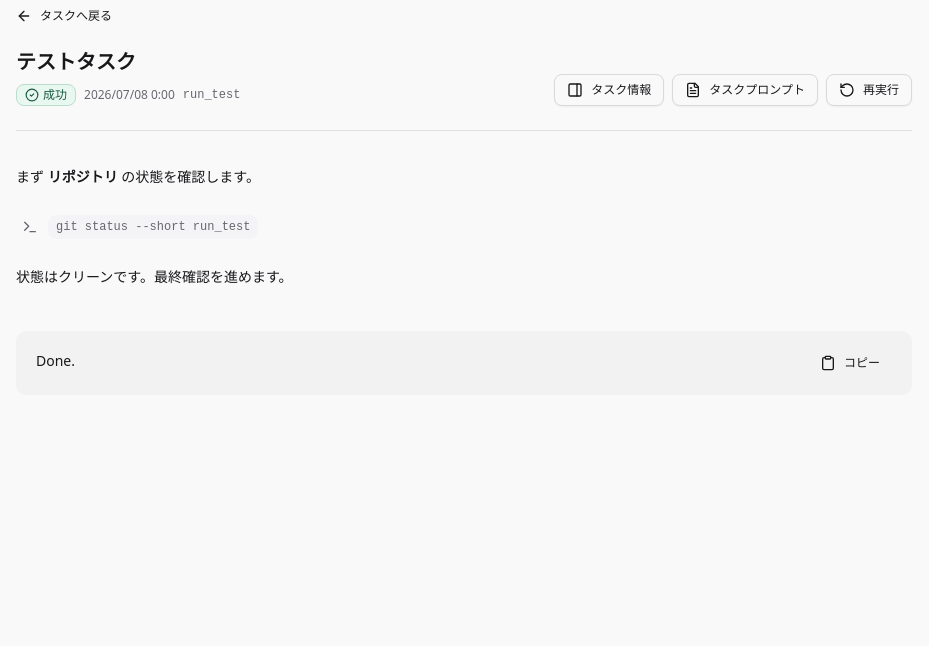
Test case: RunDetail › renders task context actions and a chat-only transcript with collapsed tool details
Expected: the buttons read "タスク情報", "タスクプロンプト", "再実行", in this order, [554,74,664,106]; [672,74,818,106]; [826,74,912,106]
Expected: the text "コマンド" is not shown
Click the heading "git status --short run_test": {"x": 151, "y": 227} [16,209,286,245]
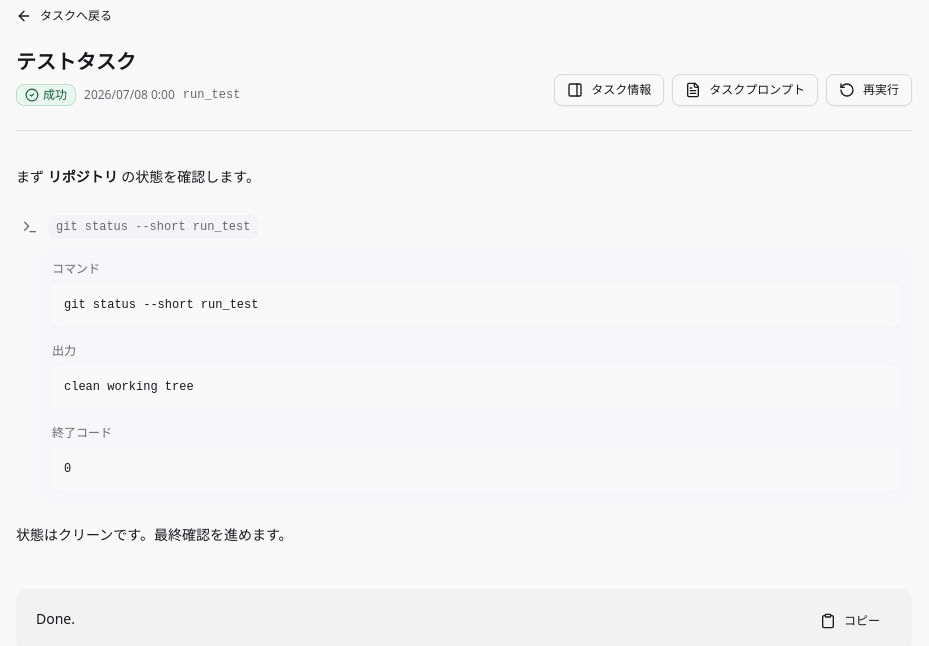
Expected: the text "clean working tree" is shown, [52,365,900,409]
